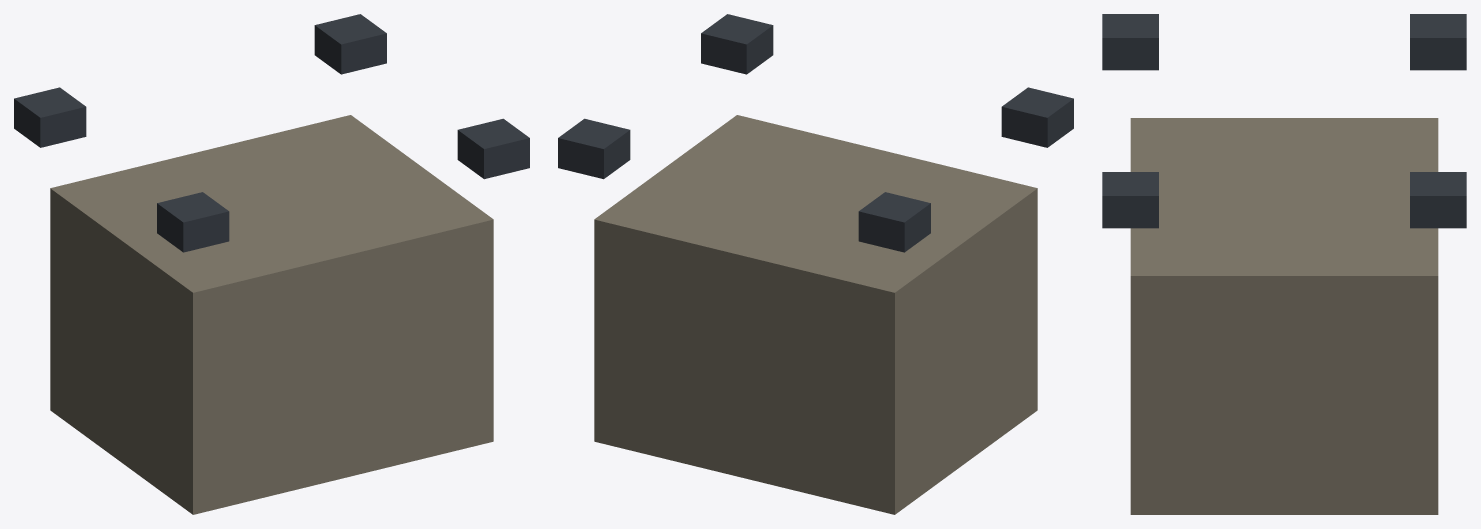
File: fort-keep.tone-v1.lod2.glb
3 views of the same model, side by side, from view 1: azimuth 30°, elevation 25°; view 2: azimuth 150°, elevation 25°; view 3: azimuth 270°, elevation 25° (orthographic). The views are drawn at different scales.
Visible parts, largest first — view 1: fort-keep; view 2: fort-keep; view 3: fort-keep.
Part boxes in pixels (left/top/right/bottom): fort-keep: left=14, top=14, right=529, bottom=514; fort-keep: left=558, top=14, right=1073, bottom=514; fort-keep: left=1102, top=14, right=1466, bottom=514.
Bounding box in the file's own units: 39.18 × 33.25 × 33.18.
